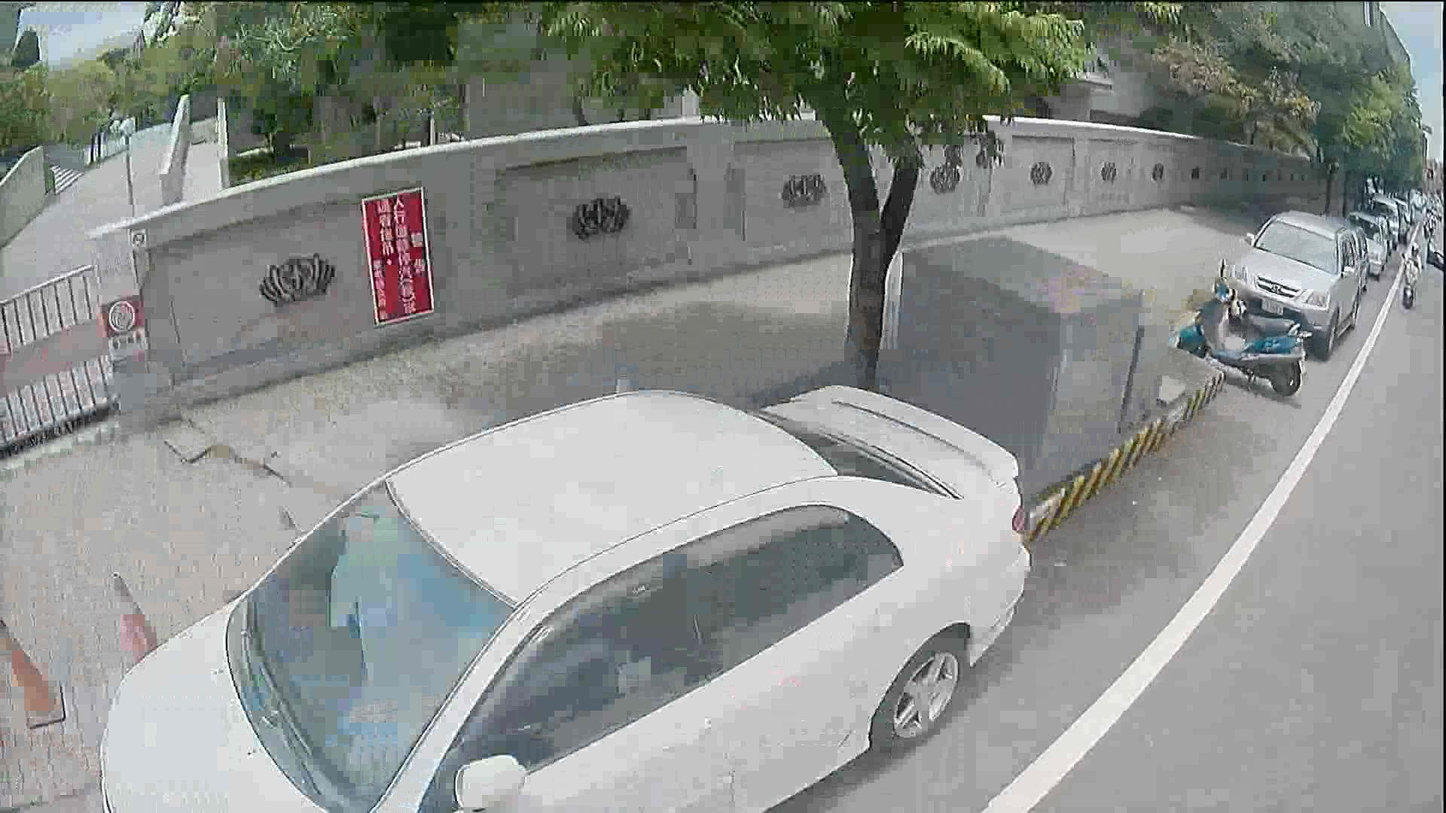person: (1402, 241, 1421, 269)
